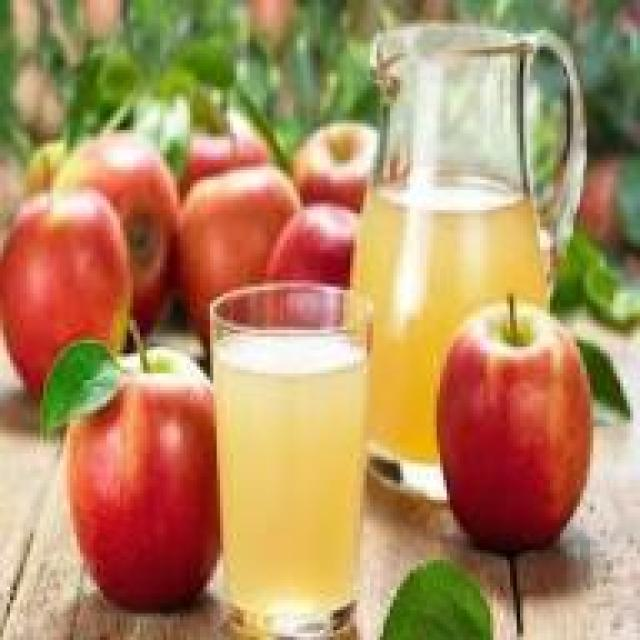apple: (63, 360, 230, 607), (436, 290, 596, 543), (3, 193, 127, 400), (60, 117, 177, 330), (174, 170, 304, 360), (263, 190, 370, 310), (284, 113, 384, 207)
